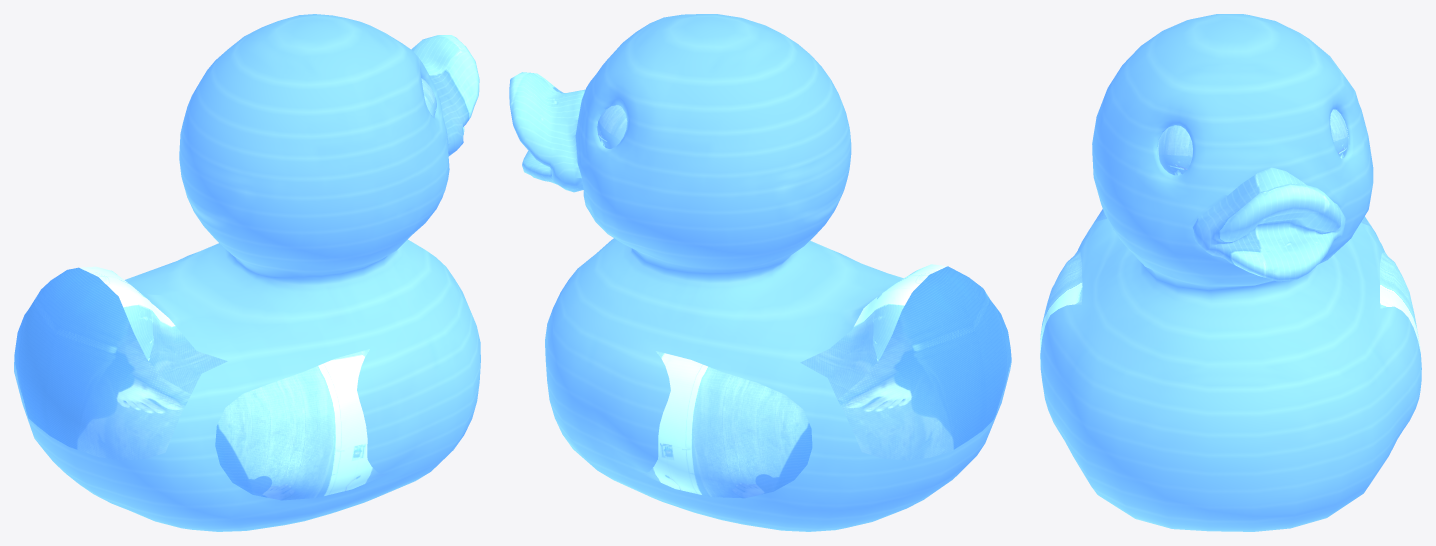
The model's file is user_1765208591609.glb.
3 views of the same model, side by side, from view 1: azimuth 30°, elevation 25°; view 2: azimuth 150°, elevation 25°; view 3: azimuth 270°, elevation 25° (orthographic). The views are drawn at different scales.
Visible parts, largest first — view 1: LOD3spShape; view 2: LOD3spShape; view 3: LOD3spShape.
Part boxes in pixels (x1,y1,x2,y2): LOD3spShape: (14,14,480,531); LOD3spShape: (509,14,1011,531); LOD3spShape: (1040,14,1421,531).
Size of the model in its own units: 1.65 by 1.54 by 1.15.
Materials: 1 (1 with a texture image).
